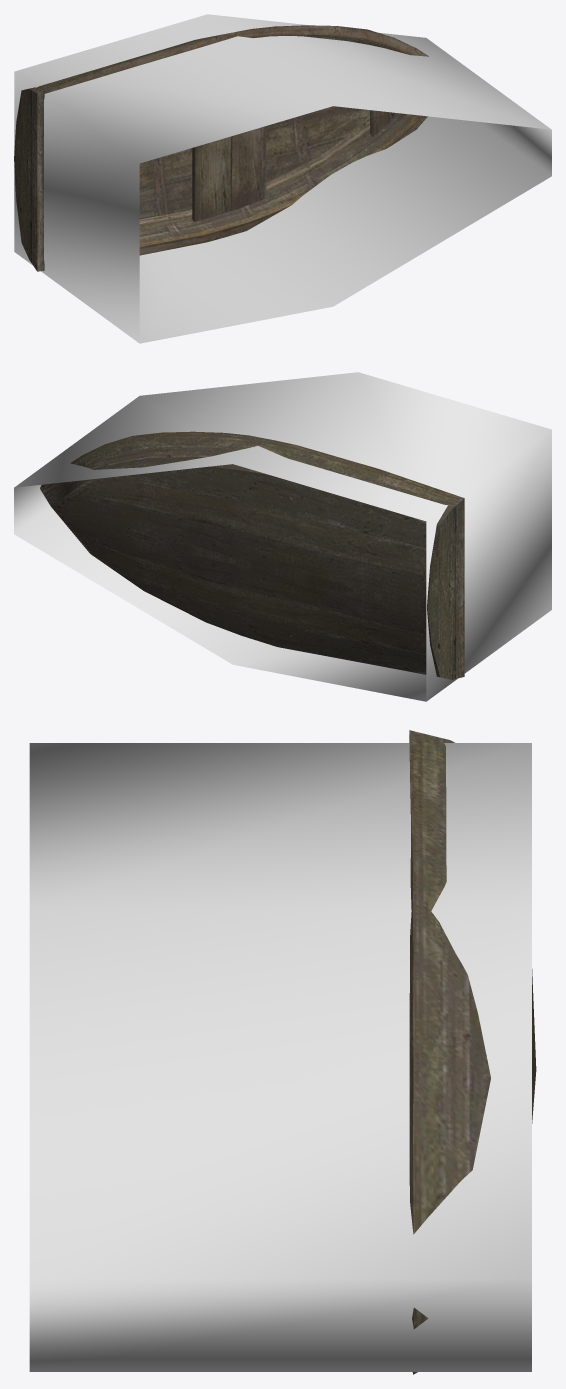
Rendered from hd_env020_Boat_04.glb.
3 views of the same model, one above another, from view 1: azimuth 30°, elevation 25°; view 2: azimuth 150°, elevation 25°; view 3: azimuth 270°, elevation 25° (orthographic). The views are drawn at different scales.
Visible parts, largest first — view 1: set_0_group_0, set_0_group_1; view 2: set_0_group_1, set_0_group_0; view 3: set_0_group_0, set_0_group_1.
Part boxes in pixels (box(x1,y1,x2,y2)): set_0_group_0: box(14, 14, 551, 343); set_0_group_1: box(14, 25, 428, 271); set_0_group_1: box(40, 431, 464, 679); set_0_group_0: box(14, 372, 551, 701); set_0_group_0: box(29, 743, 531, 1371); set_0_group_1: box(409, 730, 536, 1374).
Bounding box in the file's own units: 3.06 × 1.42 × 1.58.
2 materials, 1 textured.
